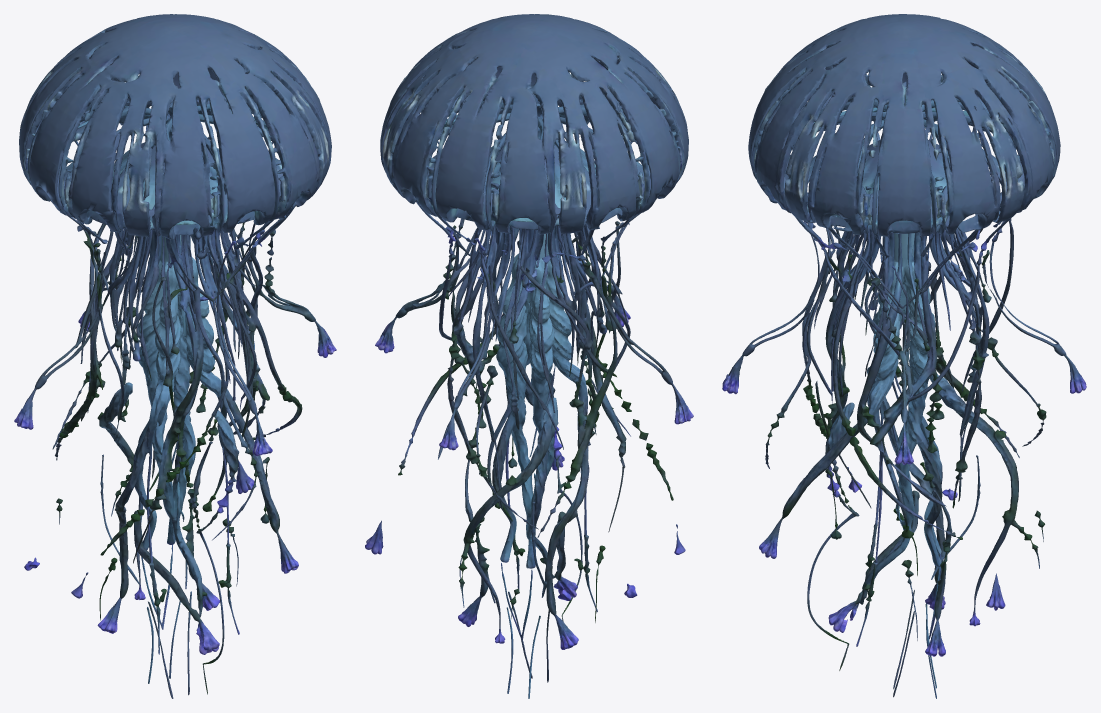
The model's file is bshuimu.glb.
The picture shows the model from 3 angles, left to right: view 1: azimuth 30°, elevation 25°; view 2: azimuth 150°, elevation 25°; view 3: azimuth 270°, elevation 25°; orthographic projection.
Parts seen in each view (by area): view 1: tripo_node_ad13c9ff-36de-4066-8b3f-b5b4bec44453; view 2: tripo_node_ad13c9ff-36de-4066-8b3f-b5b4bec44453; view 3: tripo_node_ad13c9ff-36de-4066-8b3f-b5b4bec44453.
Boxes of the visible parts, x1,y1,x2,y2 form: tripo_node_ad13c9ff-36de-4066-8b3f-b5b4bec44453: (14, 14, 336, 698); tripo_node_ad13c9ff-36de-4066-8b3f-b5b4bec44453: (365, 14, 693, 698); tripo_node_ad13c9ff-36de-4066-8b3f-b5b4bec44453: (722, 14, 1086, 698).
Bounding box in the file's own units: 0.4982 × 0.9999 × 0.498.
1 material, 1 textured.
